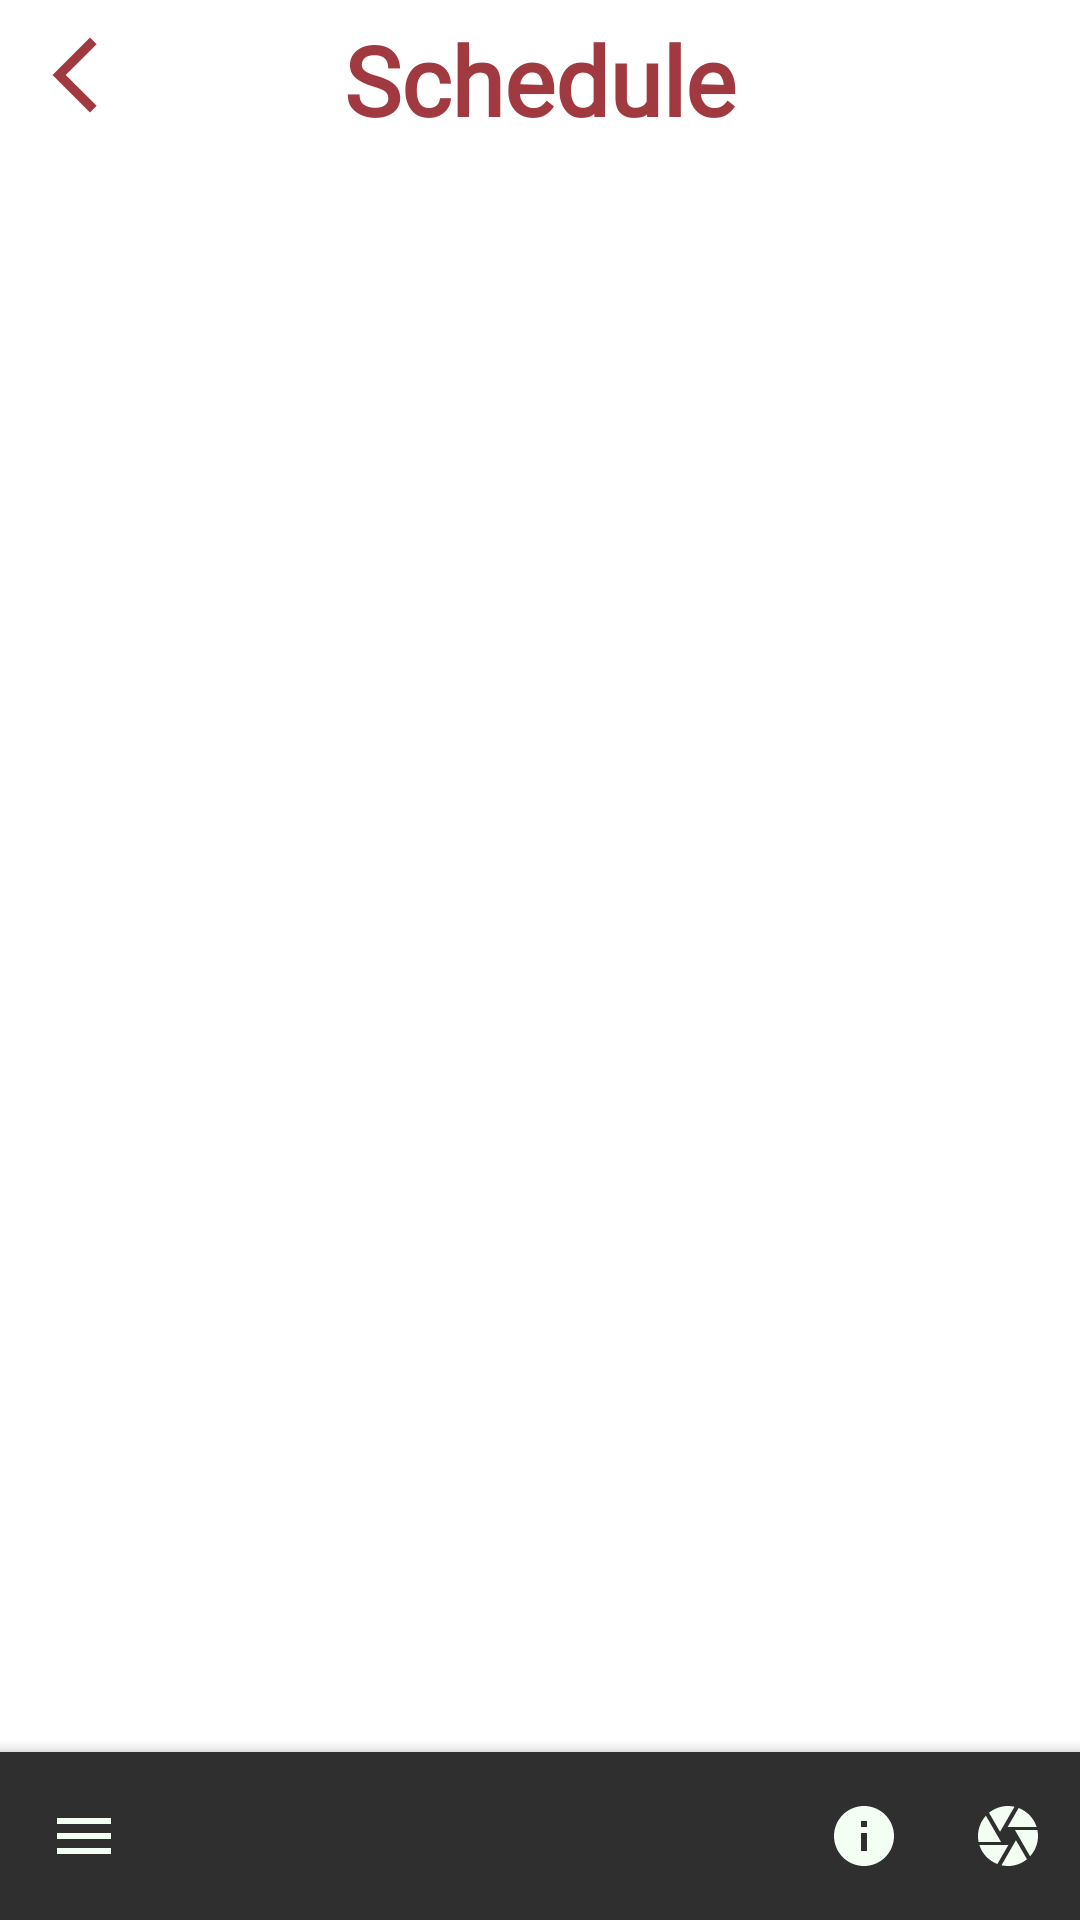

Screen size 1080x1920. Icon name, then its center in pixels as point (x, y):
arrow back: point (75, 75)
